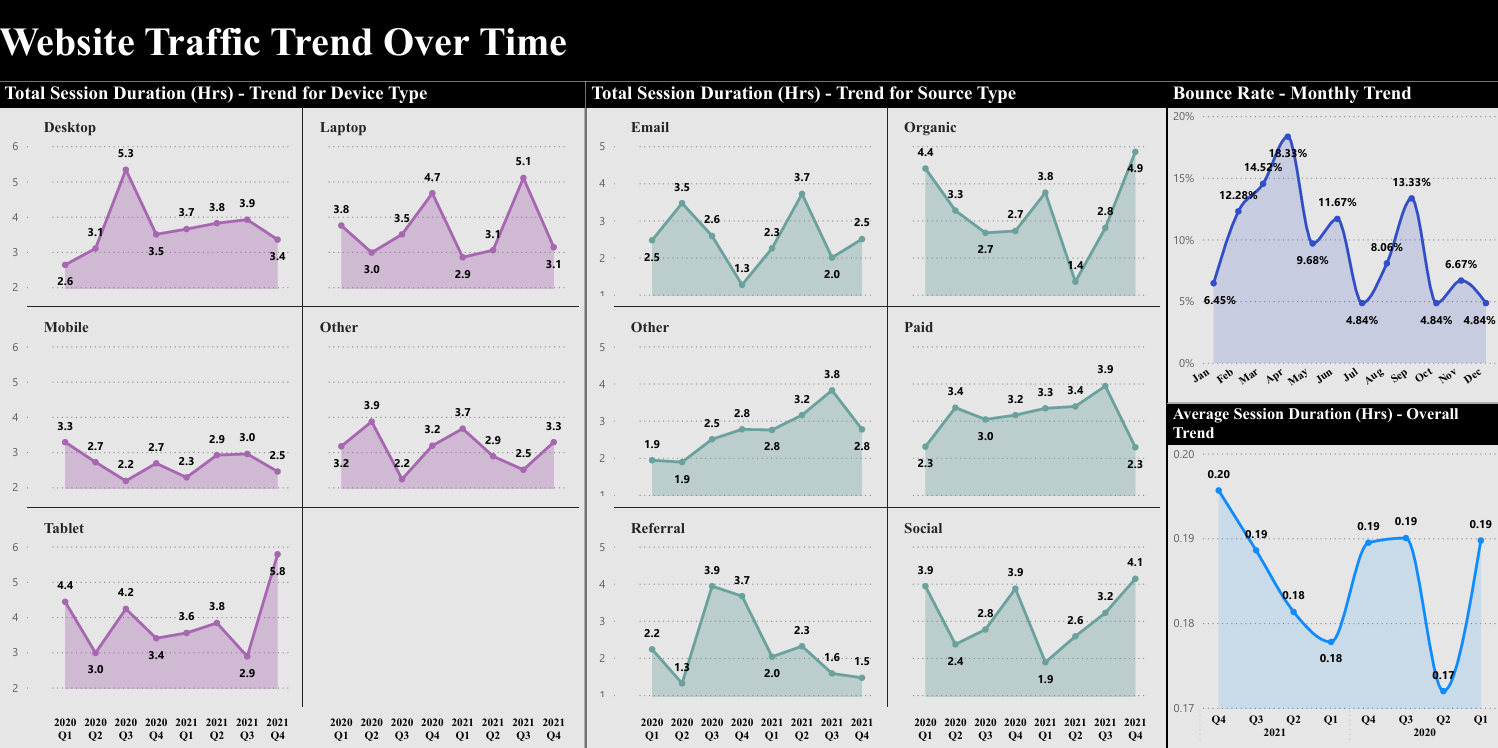

Layout of this report page (visuals, bound fields, positions):
{"tool":"powerbi","page":{"name":"Website_Traffic Trend_over_Time","canvas":[1600,800],"ordinal":2},"visuals":[{"type":"shape","box":[0,0,1600.3,85.8],"z":0},{"type":"areaChart","title":"Total Session Duration (Hrs) - Trend for Device Type","fields":{"Category":["Date_Lookup.Year","Date_Lookup.Quarter"],"Y":["#Measures.Total_Session_Duration"],"Rows":["website_traffic device_lookup.Device_Type"]},"box":[0,85.8,625,713.7],"z":1000},{"type":"areaChart","title":"Total Session Duration (Hrs) - Trend for Source Type","fields":{"Category":["Date_Lookup.Year","Date_Lookup.Quarter"],"Y":["#Measures.Total_Session_Duration"],"Rows":["website_traffic source_lookup.Website_Traffic_Sources"]},"box":[625,85.8,619.2,713.7],"z":2000},{"type":"areaChart","title":"Bounce Rate - Monthly Trend","fields":{"Y":["#Measures.Bounce_Rate"],"Category":["Date_Lookup.MonthName"]},"box":[1244.2,85.8,356.1,343],"z":3000},{"type":"areaChart","title":"Average Session Duration (Hrs) - Overall Trend","fields":{"Y":["#Measures.Average_Session_Duration"],"Category":["Date_Lookup.Year","Date_Lookup.Quarter"]},"box":[1244.2,428.8,356.1,370.6],"z":4000}]}

Visuals, with their boxes in screenshot pixels (x1, y1, x2, y2), scaled from the page's 1600x800 canvas onto the 1498x748 screenshot:
shape: 0/0/1497/80
"Total Session Duration (Hrs) - Trend for Device Type" areaChart: 0/80/585/747
"Total Session Duration (Hrs) - Trend for Source Type" areaChart: 585/80/1165/747
"Bounce Rate - Monthly Trend" areaChart: 1165/80/1497/401
"Average Session Duration (Hrs) - Overall Trend" areaChart: 1165/401/1497/747
